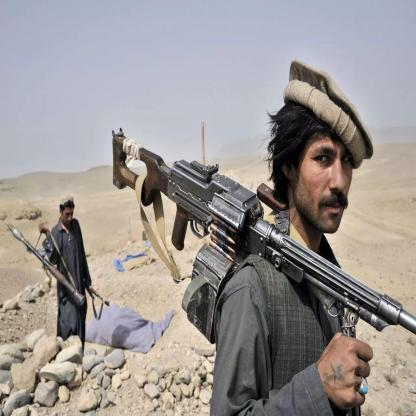rifle: (112, 127, 416, 383), (5, 221, 85, 304)
